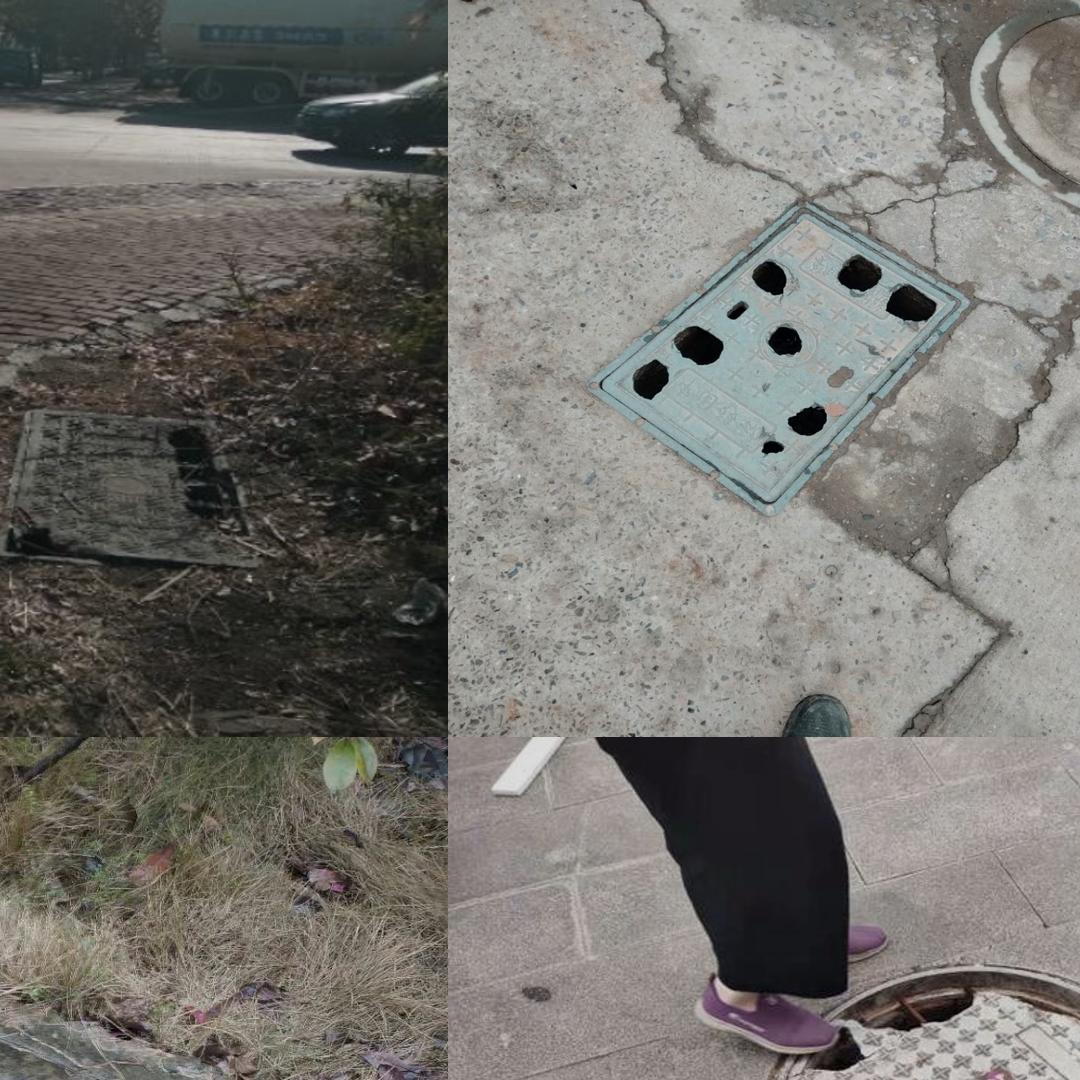broke: (585, 200, 973, 515), (0, 408, 261, 567), (749, 965, 1080, 1080)
